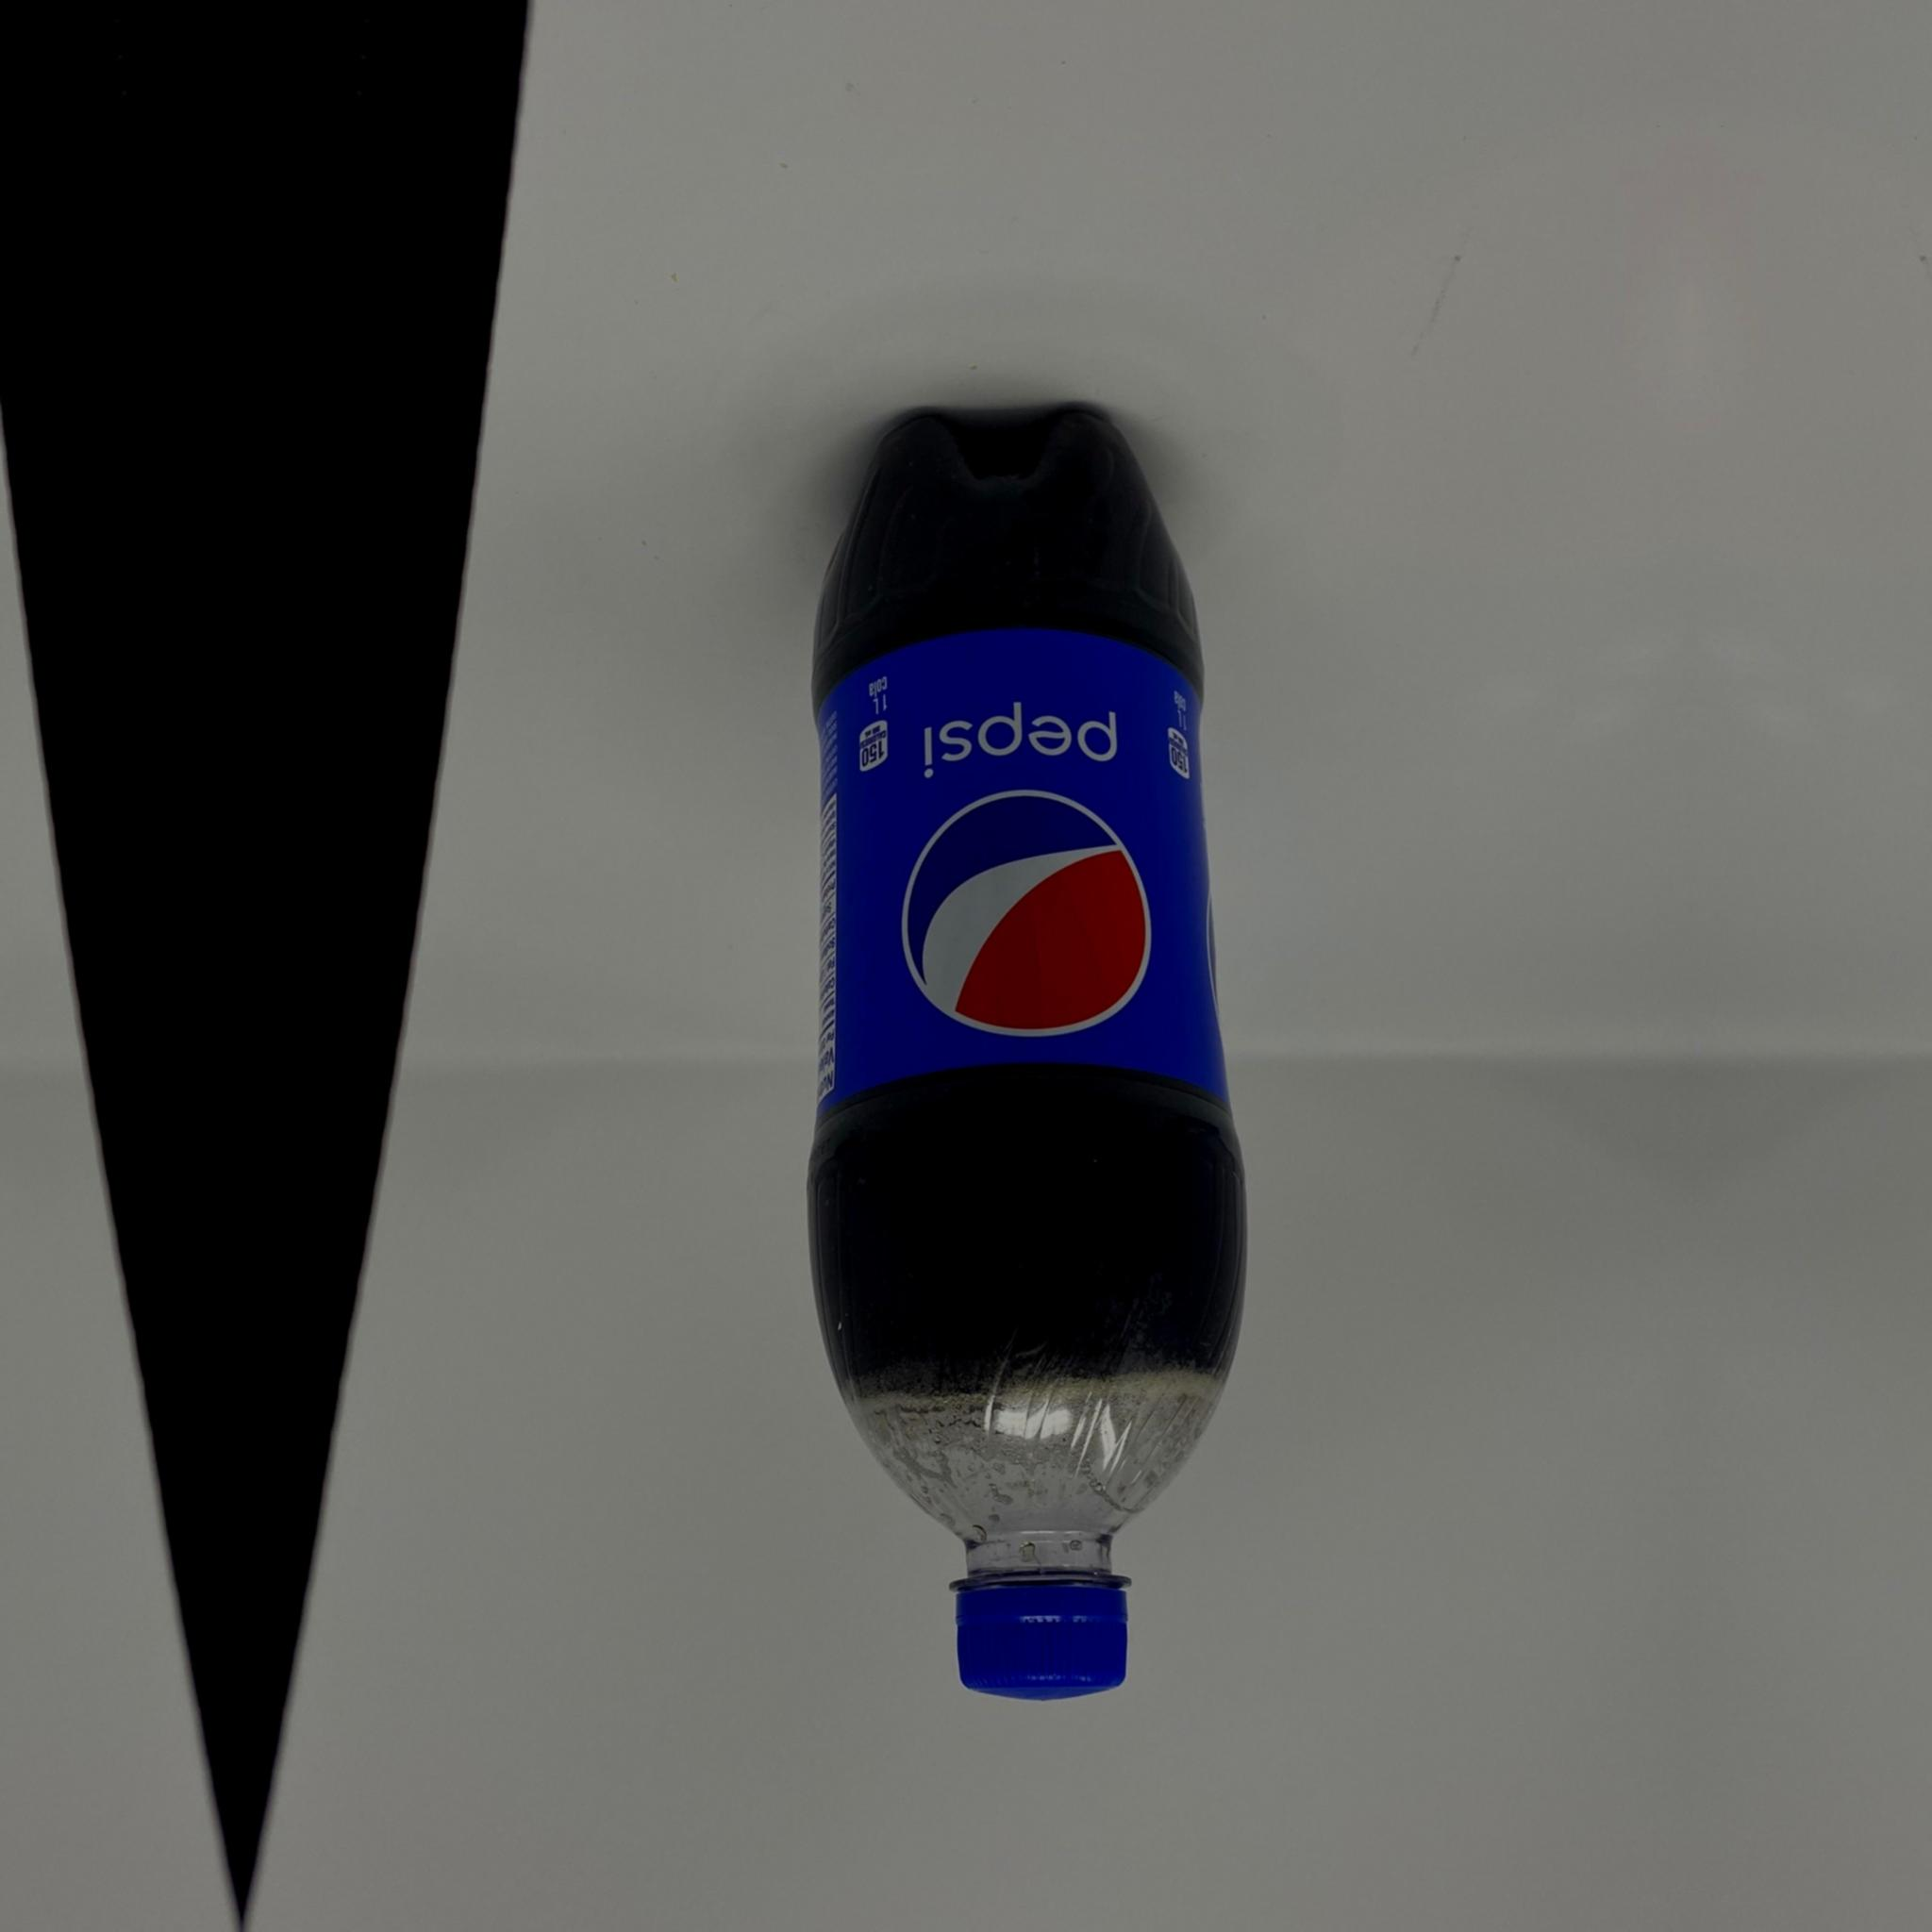PET: (805, 402, 1249, 1700)
pepsi: (805, 402, 1249, 1700)
plastic: (805, 402, 1249, 1700)
soft-drink: (805, 402, 1249, 1700)
